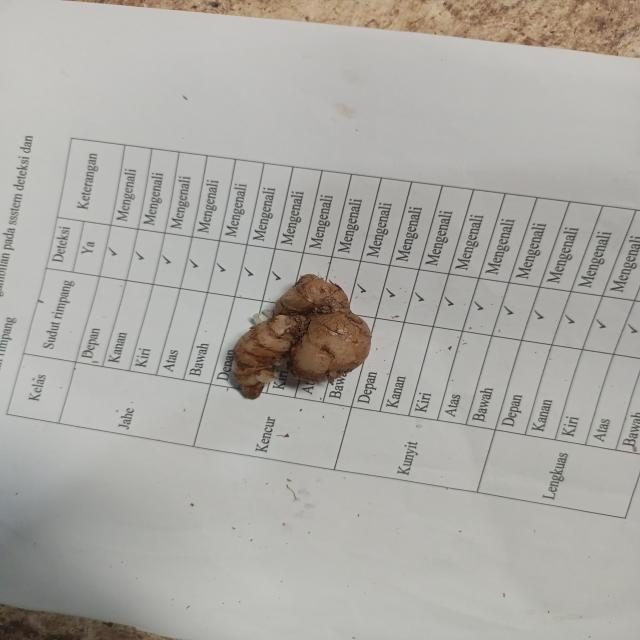ginger: (228, 272, 372, 391)
